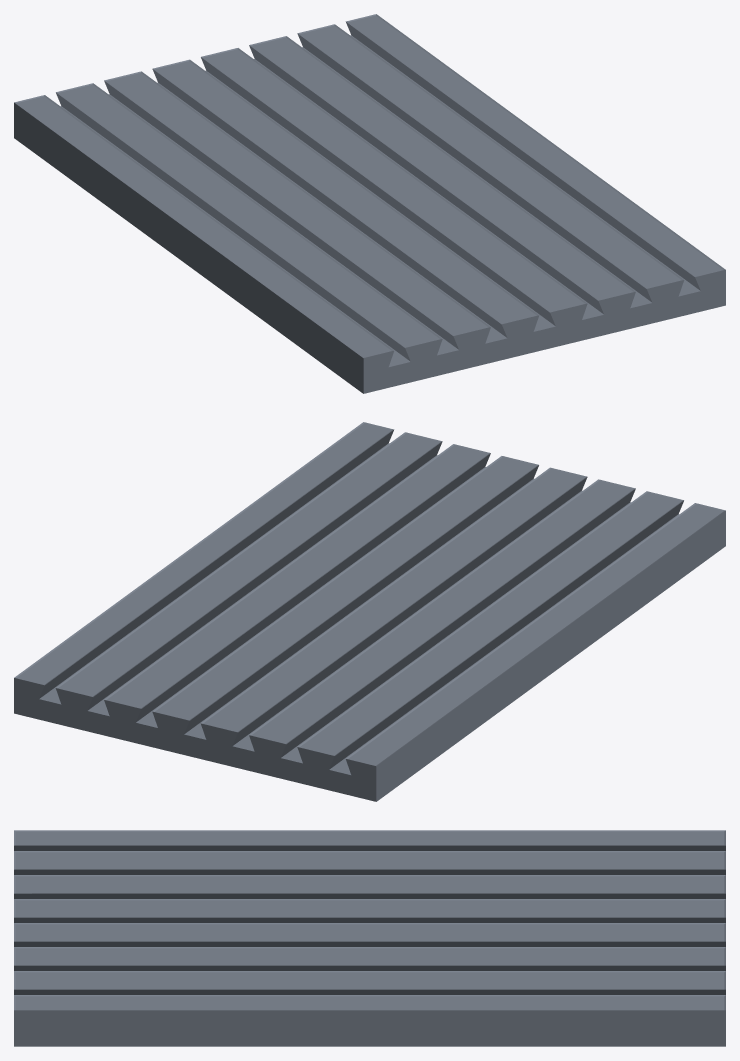
Rendered from board_cutter-machine.fbx.
3 views of the same model, one above another, from view 1: azimuth 30°, elevation 25°; view 2: azimuth 150°, elevation 25°; view 3: azimuth 270°, elevation 25° (orthographic).
Parts seen in each view (by area): view 1: board.cutter-machine; view 2: board.cutter-machine; view 3: board.cutter-machine.
Boxes of the visible parts, x1,y1,x2,y2 form: board.cutter-machine: [14, 14, 725, 393]; board.cutter-machine: [14, 422, 725, 801]; board.cutter-machine: [14, 830, 725, 1046].
Bounding box in the file's own units: 0.2873 × 0.027 × 0.4797.
